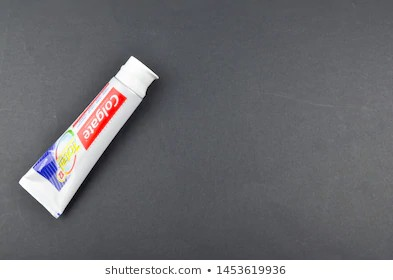colgate-total-150gm: (12, 55, 159, 218)
